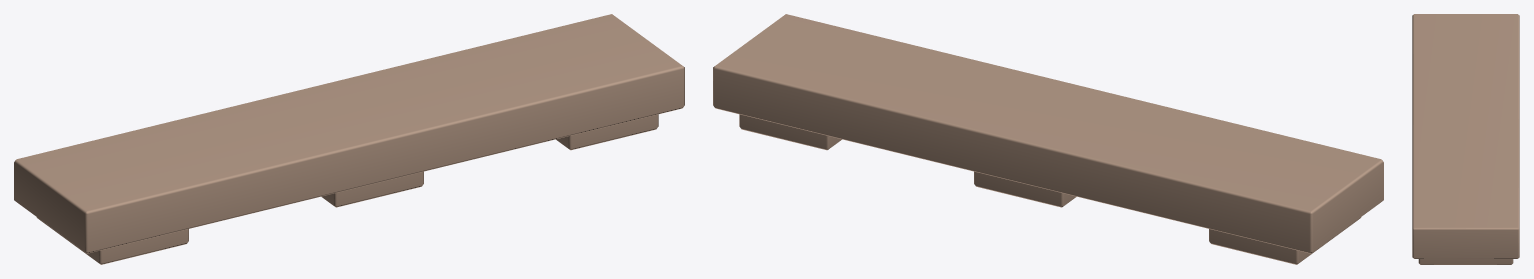
The model's file is Shelve_brown.glb.
3 renders of one model, left to right at view 1: azimuth 30°, elevation 25°; view 2: azimuth 150°, elevation 25°; view 3: azimuth 270°, elevation 25°, orthographic. The views are drawn at different scales.
Visible parts, largest first — view 1: Stand_1; view 2: Stand_1; view 3: Stand_1.
Part boxes in pixels (<box>): Stand_1: <box>14,14,684,264</box>; Stand_1: <box>713,14,1383,264</box>; Stand_1: <box>1412,14,1519,264</box>.
Size of the model in its own units: 4.98 by 0.4894 by 1.05.
1 material, 1 textured.
